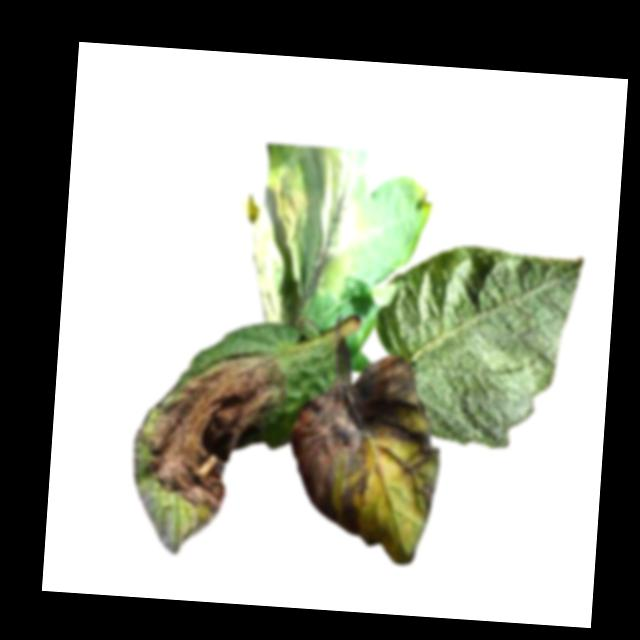Late_blight: (281, 348, 449, 567), (126, 345, 287, 563), (232, 140, 361, 326)
healthy: (365, 238, 585, 452)
